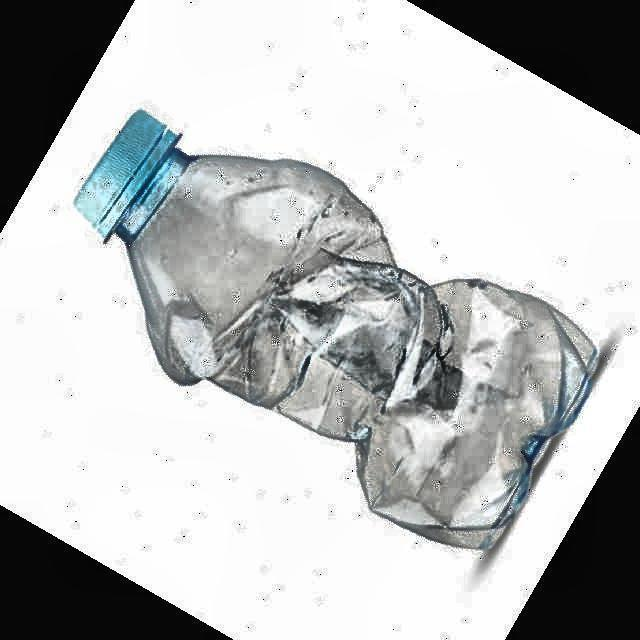plastic: (75, 111, 598, 548)
